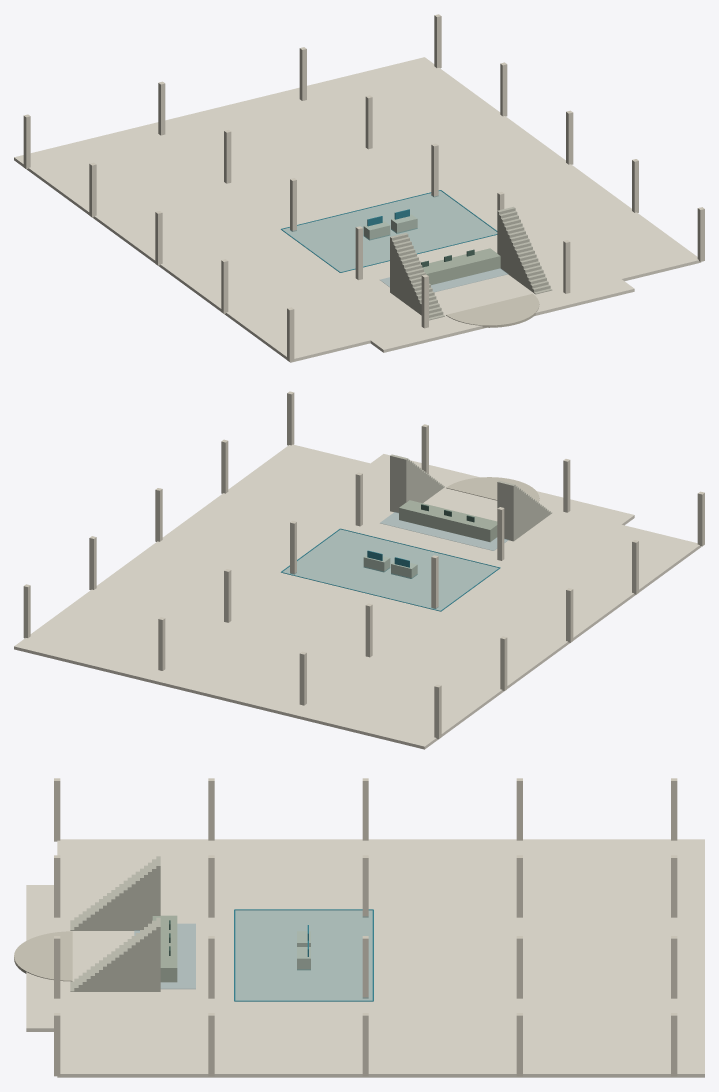
Rendered from 图书馆_1楼_试点常态.glb.
3 views of the same model, one above another, from view 1: azimuth 30°, elevation 25°; view 2: azimuth 150°, elevation 25°; view 3: azimuth 270°, elevation 25° (orthographic). The views are drawn at different scales.
Visible parts, largest first — view 1: guide_outline_floor_slab, proposed_candidate_zone, photo_guided_curved_landing, service_counter, guide_function_tint; view 2: guide_outline_floor_slab, proposed_candidate_zone, service_counter, central_stair_tread (×2), photo_guided_curved_landing, guide_function_tint; view 3: guide_outline_floor_slab, proposed_candidate_zone, photo_guided_curved_landing, guide_function_tint, service_counter.
Boxes of the visible parts, <box> form: guide_outline_floor_slab: <box>14,57,701,362</box>; proposed_candidate_zone: <box>283,191,496,271</box>; photo_guided_curved_landing: <box>446,293,539,327</box>; service_counter: <box>422,248,500,284</box>; guide_function_tint: <box>380,268,507,292</box>; guide_outline_floor_slab: <box>14,444,701,749</box>; proposed_candidate_zone: <box>283,529,497,610</box>; service_counter: <box>399,500,497,542</box>; central_stair_tread (×2): <box>390,454,515,541</box>; photo_guided_curved_landing: <box>446,477,539,502</box>; guide_function_tint: <box>380,512,508,550</box>; guide_outline_floor_slab: <box>26,839,704,1077</box>; proposed_candidate_zone: <box>235,910,372,1000</box>; photo_guided_curved_landing: <box>14,931,72,981</box>; guide_function_tint: <box>134,923,195,989</box>; service_counter: <box>152,915,177,982</box>.
Bounding box in the file's own units: 36.4 × 4.9 × 44.8.
